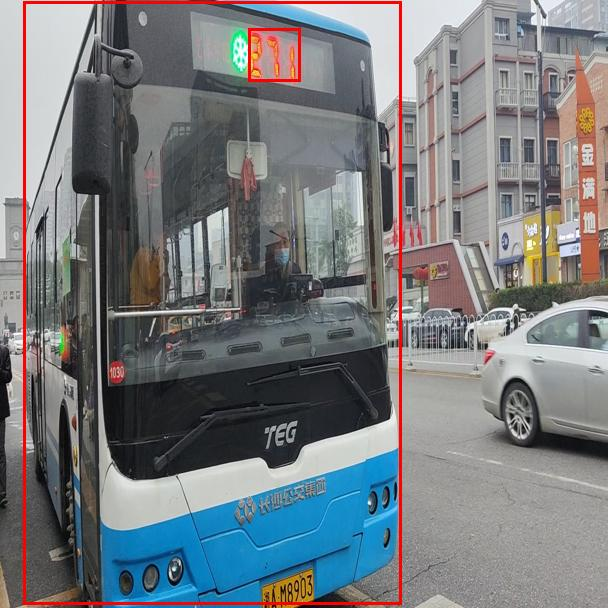bus: (23, 1, 401, 604)
screen: (248, 28, 300, 81)
